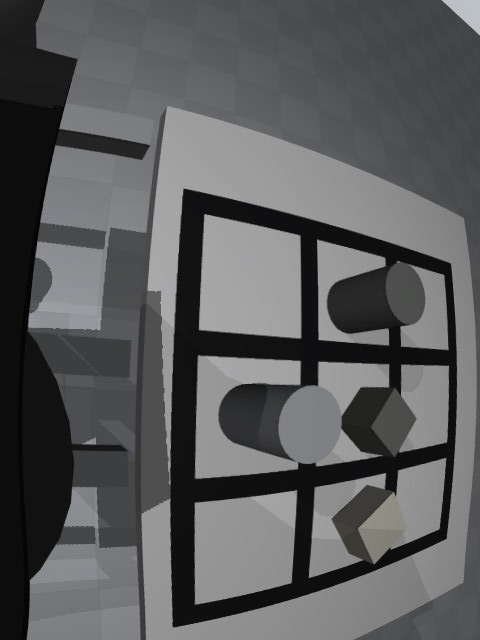can: (218, 384, 342, 464)
cube: (341, 387, 417, 457)
cylinder: (327, 262, 425, 334)
foam: (332, 485, 408, 565)
